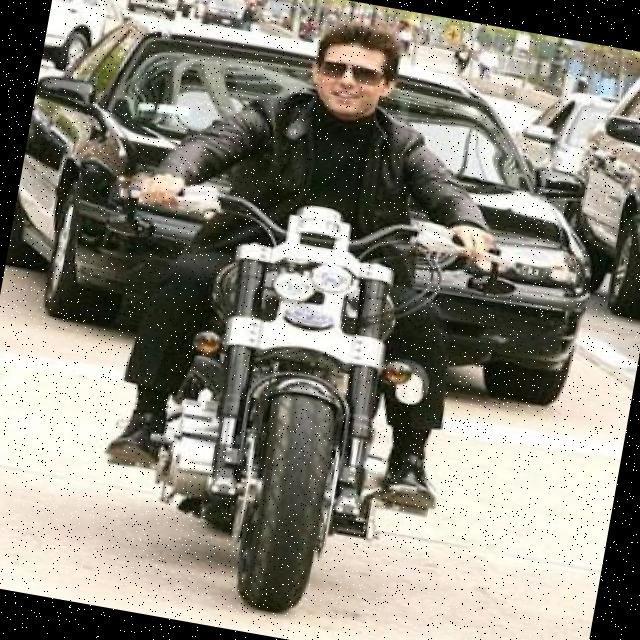No helmet: (301, 24, 410, 131)
